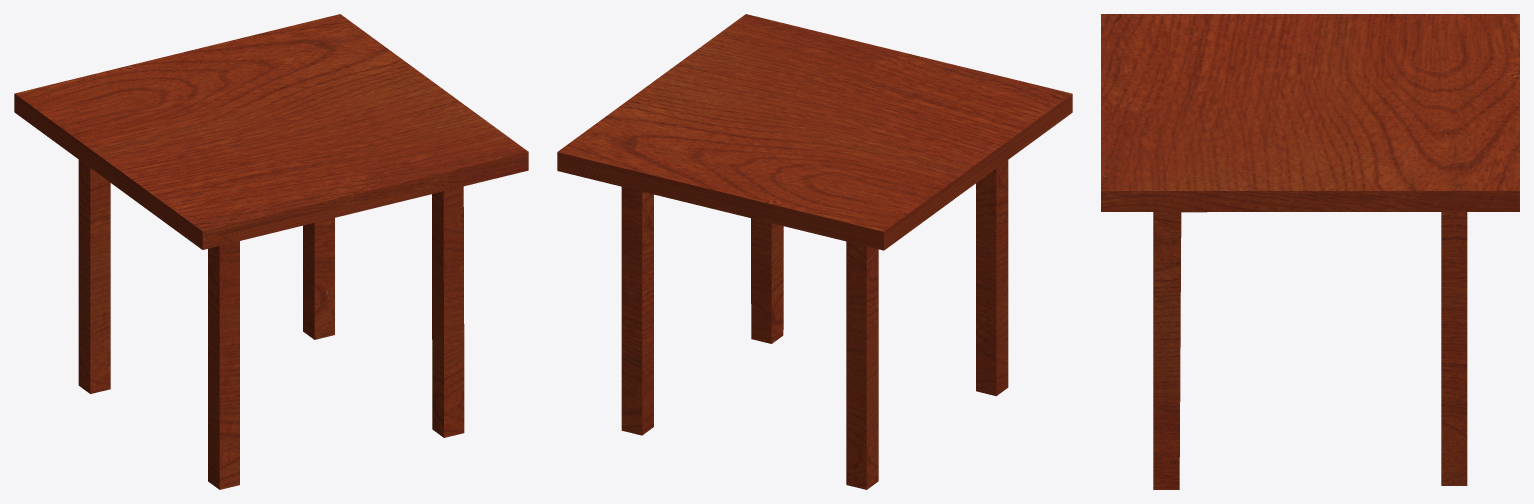
Rendered from table-review.fbx.
3 renders of one model, left to right at view 1: azimuth 30°, elevation 25°; view 2: azimuth 150°, elevation 25°; view 3: azimuth 270°, elevation 25°, orthographic. The views are drawn at different scales.
Parts seen in each view (by area): view 1: Table Top, Table Legs; view 2: Table Top, Table Legs; view 3: Table Top, Table Legs.
Part boxes in pixels (bbox=[...]): Table Top: bbox=[14, 14, 528, 249]; Table Legs: bbox=[78, 160, 464, 489]; Table Top: bbox=[557, 14, 1072, 250]; Table Legs: bbox=[621, 160, 1008, 489]; Table Top: bbox=[1101, 14, 1519, 212]; Table Legs: bbox=[1153, 212, 1467, 489].
Size of the model in its own units: 2.92 by 2.47 by 2.92.
1 material, 1 textured.
